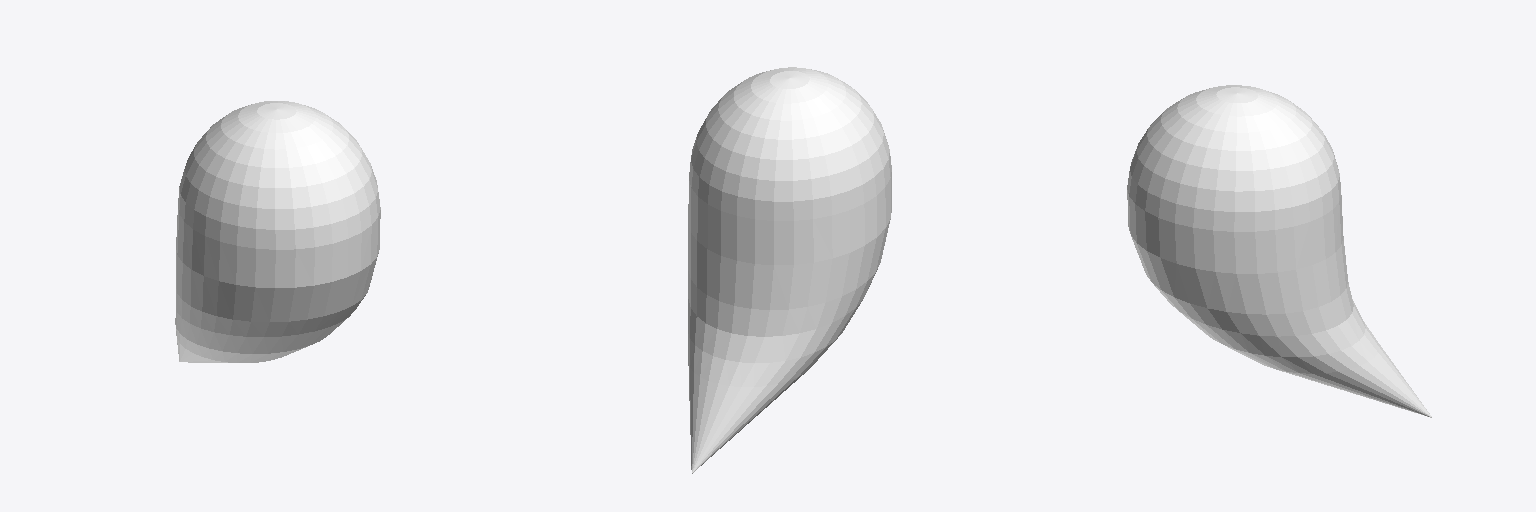
The picture shows the model from 3 angles: view 1: azimuth 30°, elevation 25°; view 2: azimuth 150°, elevation 25°; view 3: azimuth 270°, elevation 25°; orthographic projection.
Visible parts, largest first — view 1: 球; view 2: 球; view 3: 球.
Part boxes in pixels (left/top/right/bottom): 球: left=175, top=101, right=380, bottom=362; 球: left=688, top=67, right=891, bottom=473; 球: left=1127, top=85, right=1431, bottom=417.
Bounding box in the file's own units: 0.875 × 1.57 × 1.34.
Materials: 1 (1 with a texture image).